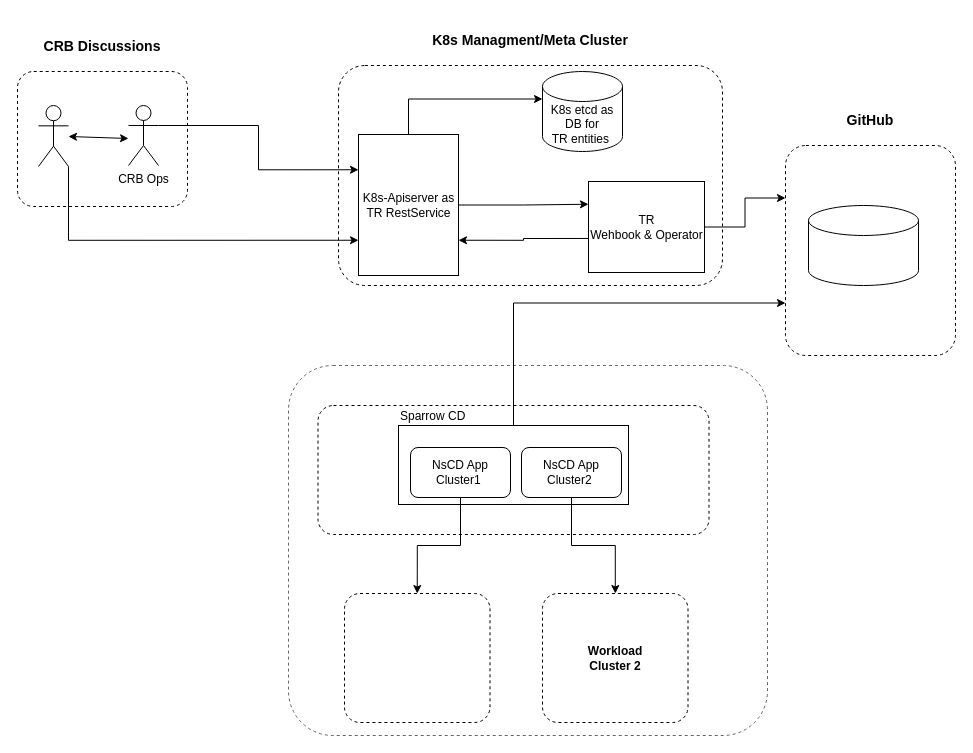
Some shapes in this 973 by 753 pixel diagram are drawn without their labels. Each missing label, with the box of its shape:
AppId Owner: (38, 104, 68, 166)
Meta Cluster: (317, 404, 709, 534)
Region 1: (288, 364, 768, 736)
TenancyCD Repo: (808, 204, 918, 286)
Workload Cluster 1: (344, 592, 490, 722)
